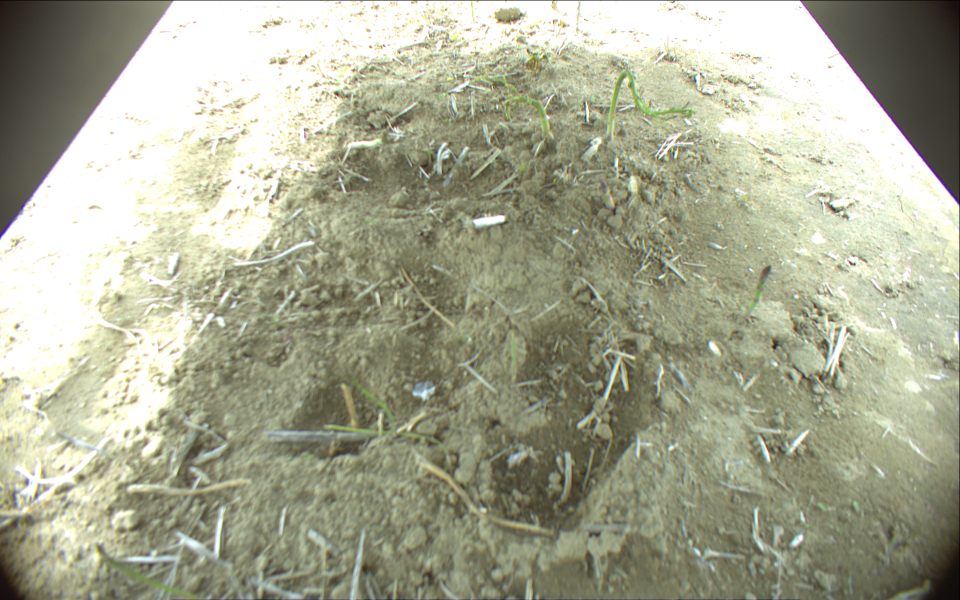aspa: (607, 70, 697, 140), (98, 543, 200, 599), (500, 97, 550, 139), (739, 263, 773, 322)
